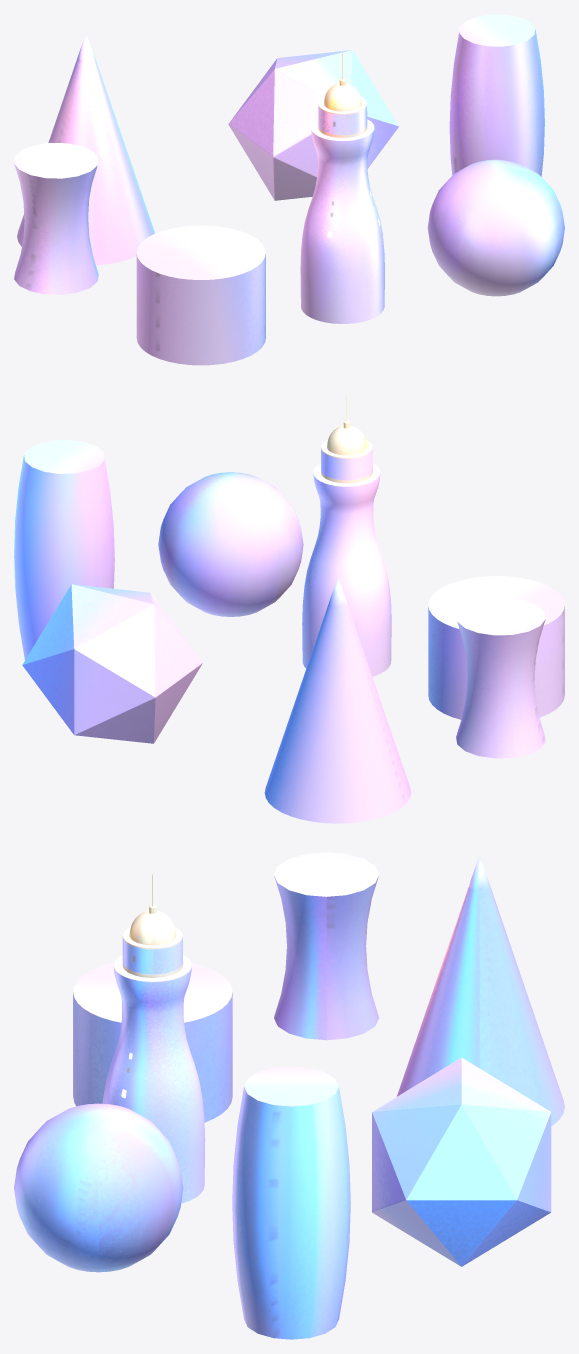
3 views of the same model, one above another, from view 1: azimuth 30°, elevation 25°; view 2: azimuth 150°, elevation 25°; view 3: azimuth 270°, elevation 25° (orthographic). The views are drawn at different scales.
Visible parts, largest first — view 1: Cylinder.12, Cylinder.1; view 2: Cylinder.12, Cylinder.1; view 3: Cylinder.12, Cylinder.1.
Part boxes in pixels (<box>): Cylinder.12: <box>14,14,564,365</box>; Cylinder.1: <box>300,53,384,323</box>; Cylinder.12: <box>14,439,564,823</box>; Cylinder.1: <box>302,394,391,676</box>; Cylinder.12: <box>14,852,564,1339</box>; Cylinder.1: <box>102,874,205,1203</box>.
Bounding box in the file's own units: 68.25 × 33.32 × 52.25.
